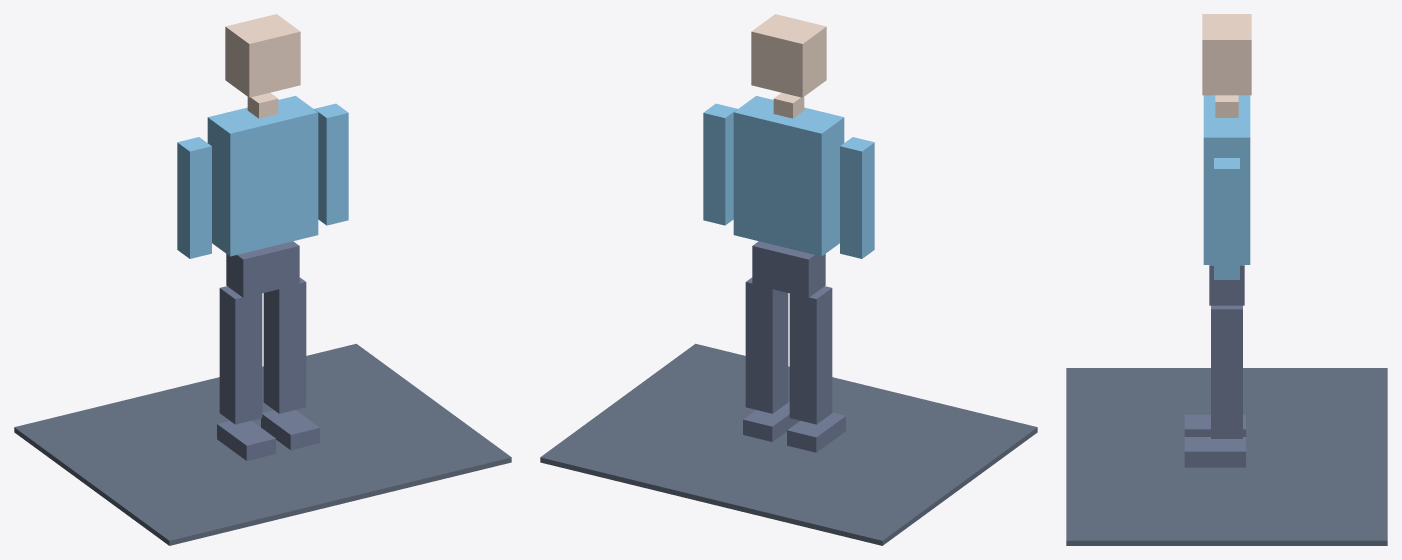
Rendered from simple_character.gltf.
The picture shows the model from 3 angles, left to right: view 1: azimuth 30°, elevation 25°; view 2: azimuth 150°, elevation 25°; view 3: azimuth 270°, elevation 25°; orthographic projection. The views are drawn at different scales.
Parts seen in each view (by area): view 1: DisplayFloor, Torso, LeftLeg, RightLeg, Head, LeftArm, RightArm, Pelvis, LeftFoot, RightFoot, Neck; view 2: DisplayFloor, Torso, LeftLeg, RightLeg, Head, LeftArm, RightArm, Pelvis, LeftFoot, RightFoot, Neck; view 3: DisplayFloor, Torso, RightLeg, Head, RightArm, RightFoot, Pelvis, LeftFoot, Neck.
Part boxes in pixels (x1,y1,x2,y2): DisplayFloor: (14, 343, 511, 545); Torso: (207, 96, 318, 256); LeftLeg: (219, 286, 262, 424); RightLeg: (263, 277, 306, 413); Head: (225, 14, 300, 97); LeftArm: (177, 137, 211, 258); RightArm: (314, 103, 348, 225); Pelvis: (226, 241, 299, 297); LeftFoot: (217, 420, 275, 460); RightFoot: (261, 410, 319, 450); Neck: (247, 92, 278, 118); DisplayFloor: (540, 343, 1037, 545); Torso: (733, 96, 844, 256); LeftLeg: (789, 286, 832, 424); RightLeg: (745, 277, 788, 413); Head: (751, 14, 826, 97); LeftArm: (840, 137, 874, 258); RightArm: (703, 103, 737, 225); Pelvis: (752, 241, 825, 297); LeftFoot: (787, 412, 845, 452); RightFoot: (743, 401, 799, 441); Neck: (773, 92, 804, 118); DisplayFloor: (1066, 368, 1387, 545); Torso: (1203, 95, 1250, 264); RightLeg: (1211, 305, 1242, 438); Head: (1202, 14, 1251, 95); RightArm: (1214, 158, 1239, 279); RightFoot: (1184, 437, 1245, 467); Pelvis: (1209, 265, 1244, 305); LeftFoot: (1184, 414, 1245, 436); Neck: (1215, 95, 1238, 117).
Size of the model in its own units: 2.8 by 3.27 by 2.2.
